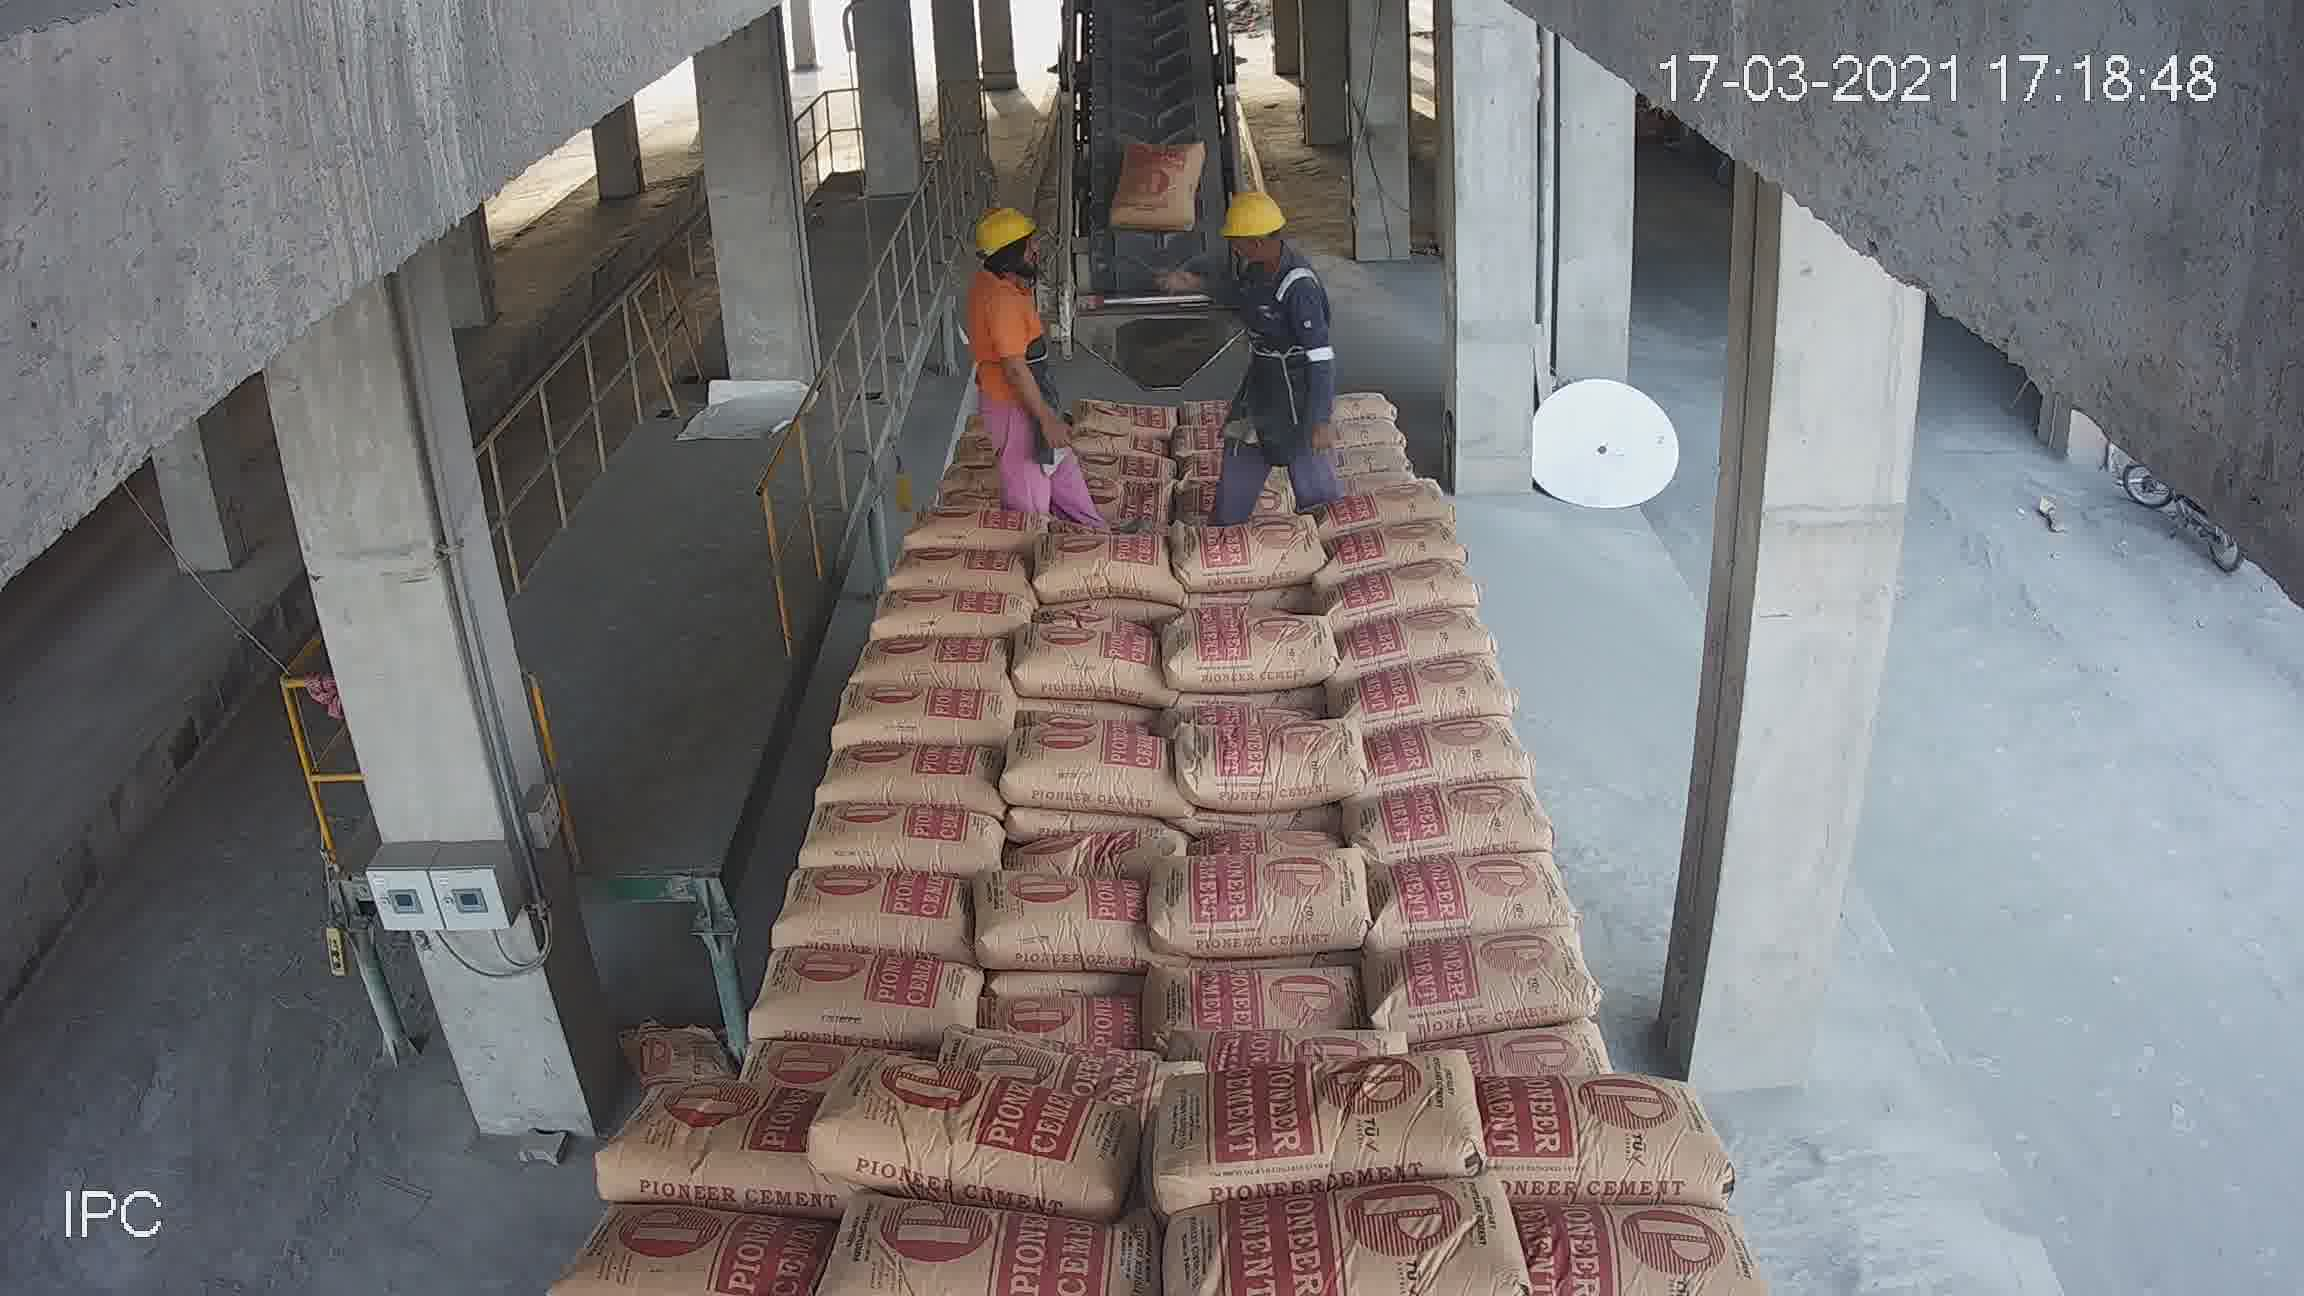bag: (1112, 131, 1204, 228)
bag_h: (1141, 1043, 1476, 1215), (813, 1044, 1139, 1214), (1160, 1177, 1529, 1296), (1459, 1070, 1725, 1214), (592, 1082, 821, 1214), (1380, 916, 1601, 1041), (1348, 843, 1593, 953), (551, 1190, 832, 1285), (813, 1214, 1144, 1291), (1147, 840, 1381, 948), (736, 942, 987, 1040), (1530, 1203, 1777, 1296), (1355, 774, 1563, 870), (772, 858, 970, 956), (1176, 707, 1370, 805), (1343, 707, 1537, 804), (1133, 961, 1378, 1036), (905, 1033, 1196, 1097), (777, 802, 1010, 873), (989, 737, 1169, 826), (968, 878, 1149, 967), (828, 680, 1014, 756), (1155, 606, 1331, 687), (1347, 658, 1510, 744), (986, 965, 1154, 1048), (984, 824, 1176, 892), (1449, 1003, 1612, 1081), (999, 619, 1166, 692), (821, 750, 995, 820), (869, 570, 1040, 639), (1173, 513, 1329, 589), (1336, 608, 1497, 680), (1029, 519, 1166, 603), (847, 635, 1014, 695), (1334, 565, 1484, 627), (1317, 465, 1453, 530), (900, 492, 1049, 551), (1329, 516, 1473, 576), (878, 536, 1041, 589), (1067, 404, 1176, 460), (1067, 383, 1184, 427), (1078, 451, 1179, 500), (1331, 377, 1399, 426)
belt: (1063, 32, 1237, 358)
